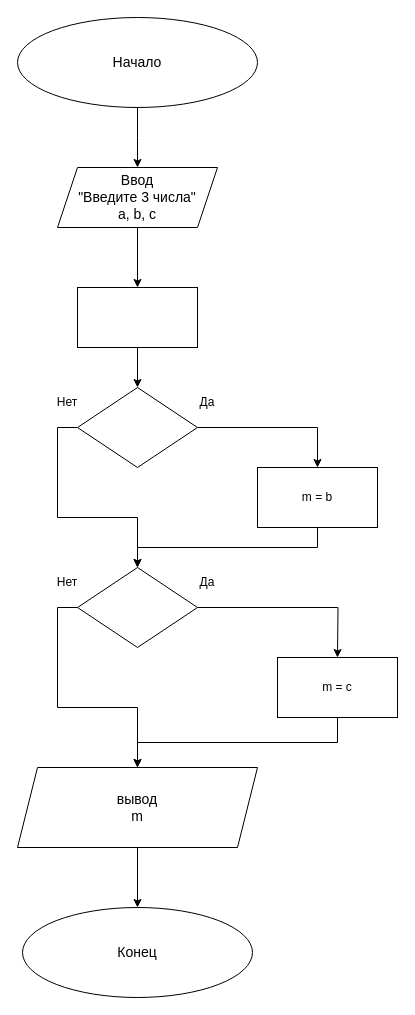
The diagram is 415 pixels wide and 1015 high, and some of its shapes have lost their labels. Here are the shapes that lost their labels. From the top down, the centre of each, then its label:
At (137,317): "m = a".
At (137,427): "m < b".
At (137,607): "m < c".
